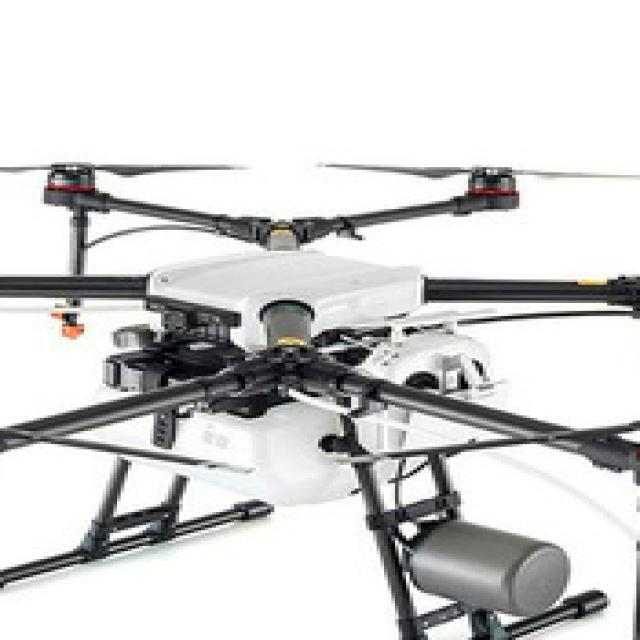drone: (0, 136, 640, 559)
